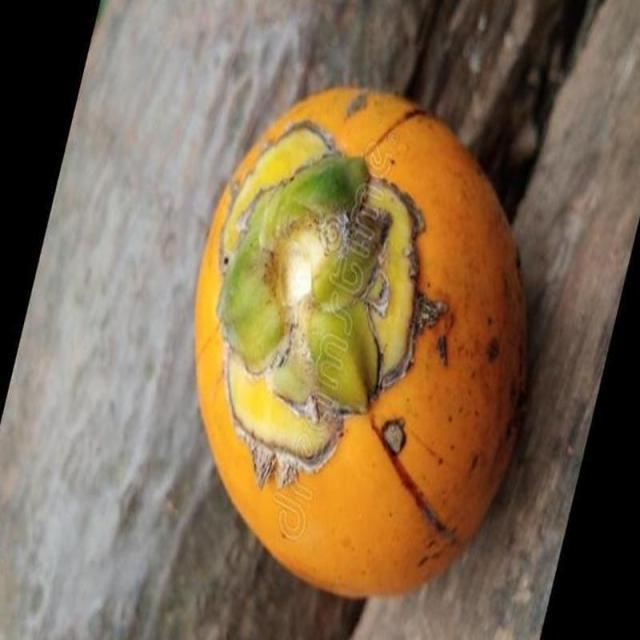good: (195, 92, 527, 604)
